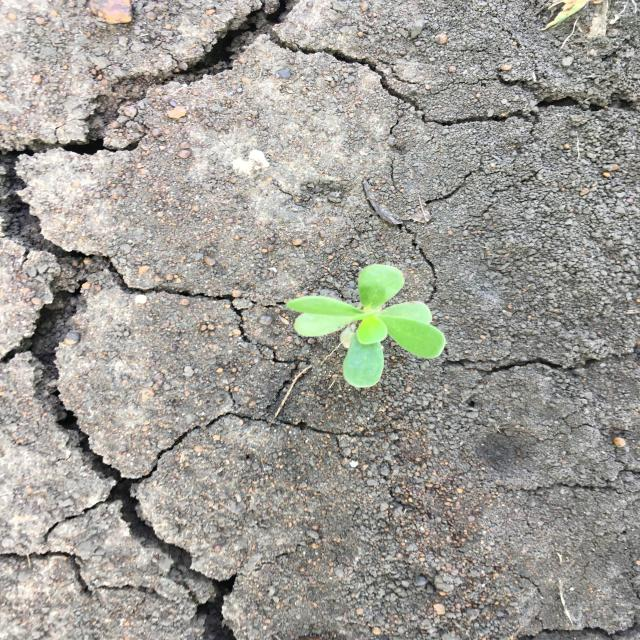Purslane: (284, 263, 450, 391)
